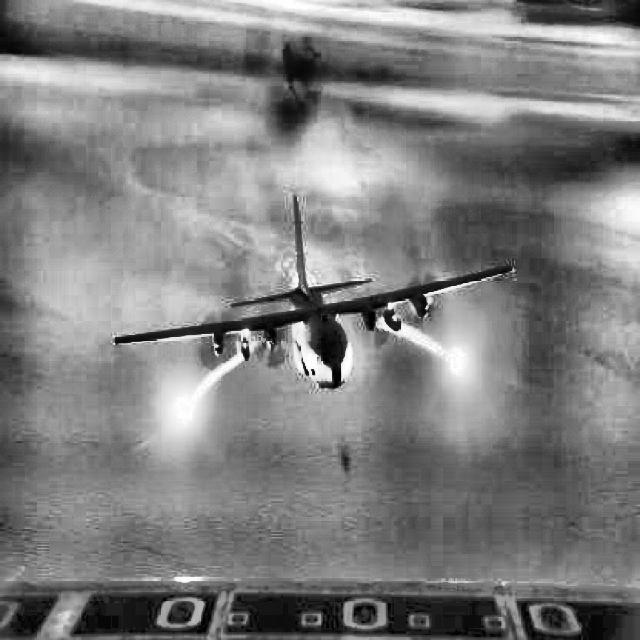C130: (114, 193, 515, 390)
